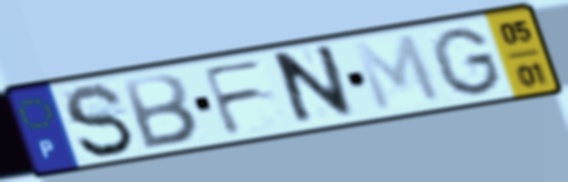B: (119, 70, 202, 152)
F: (198, 56, 269, 139)
G: (427, 25, 507, 98)
M: (348, 31, 447, 115)
N: (273, 40, 360, 132)
S: (60, 81, 138, 160)
